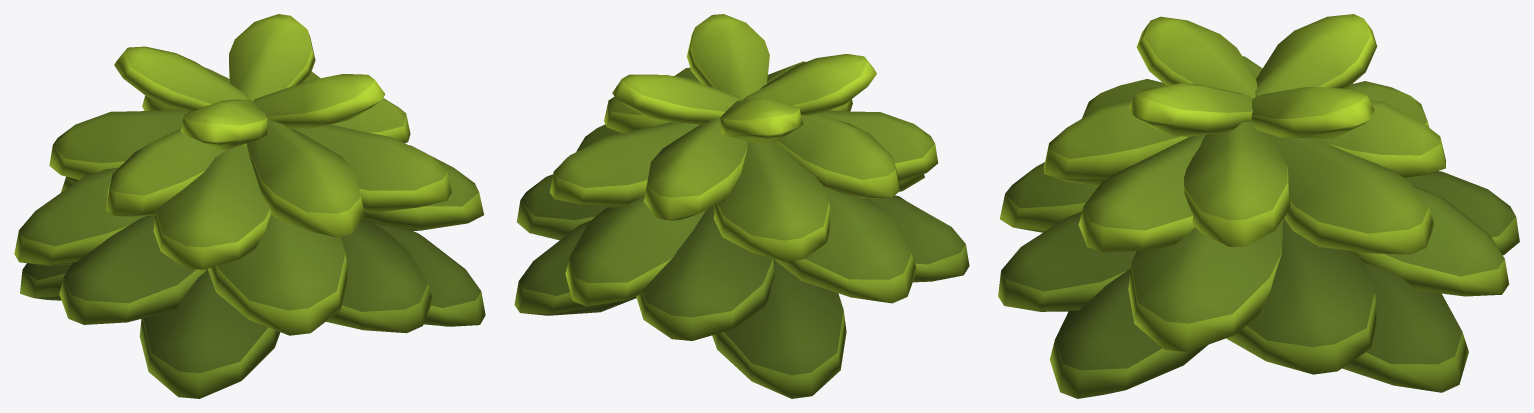
The model's file is big_tree_foliage_single_LOD_group.fbx.
3 renders of one model, left to right at view 1: azimuth 30°, elevation 25°; view 2: azimuth 150°, elevation 25°; view 3: azimuth 270°, elevation 25°, orthographic. The views are drawn at different scales.
Visible parts, largest first — view 1: big_tree_foliage_single_LOD0; view 2: big_tree_foliage_single_LOD0; view 3: big_tree_foliage_single_LOD0.
Part boxes in pixels (x1,y1,x2,y2): big_tree_foliage_single_LOD0: (14, 14, 485, 398); big_tree_foliage_single_LOD0: (514, 14, 969, 398); big_tree_foliage_single_LOD0: (998, 14, 1519, 398).
Size of what is drawn, in the model's own units: 165 by 96.67 by 163.
1 material, 1 textured.
